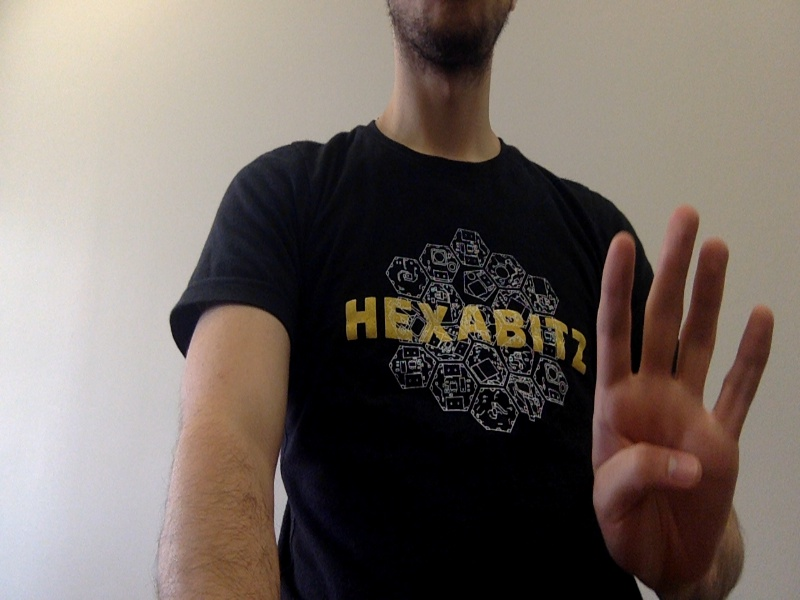4-hand: (597, 205, 774, 570)
